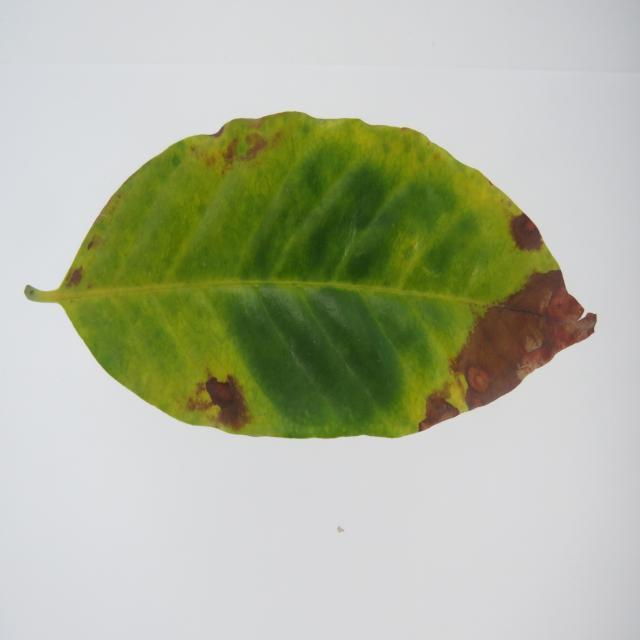DeficienciaNutricional-Potasio: (25, 112, 596, 438)
